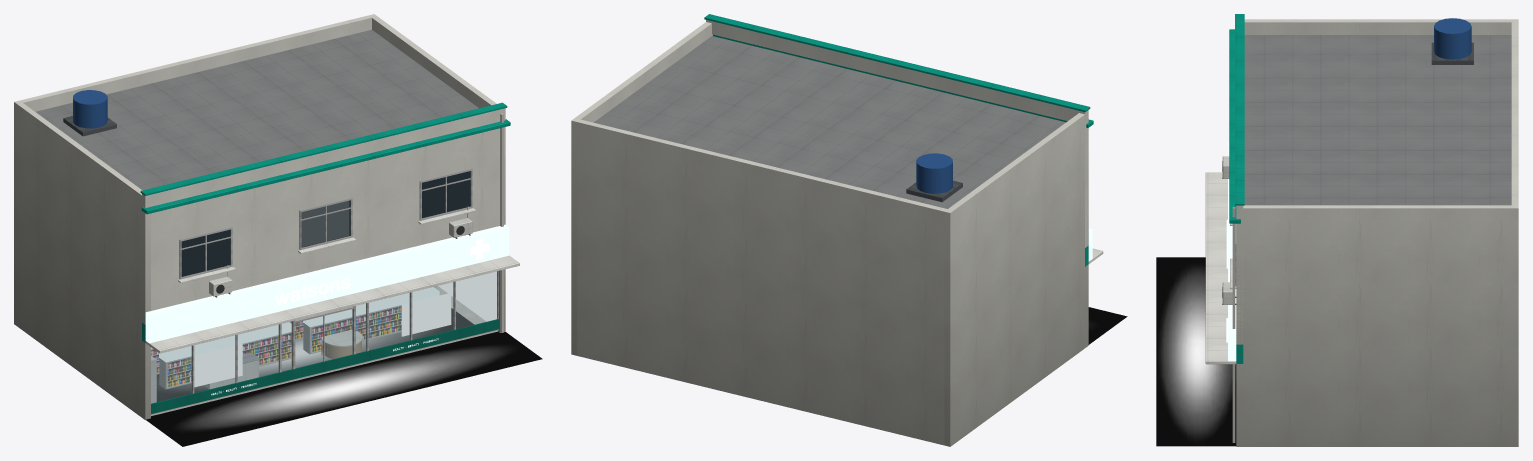
Rendered from LM_SHOP_Watsons.glb.
3 renders of one model, left to right at view 1: azimuth 30°, elevation 25°; view 2: azimuth 150°, elevation 25°; view 3: azimuth 270°, elevation 25°, orthographic. The views are drawn at different scales.
Visible parts, largest first — view 1: LM_SHOP_Watsons | Render wall, LM_SHOP_Watsons | Painted panel, LM_SHOP_Watsons | Night glow sign, LM_SHOP_Watsons | Night wash, LM_SHOP_Watsons | Shopfront glass, LM_SHOP_Watsons | Upper floor glass, LM_SHOP_Watsons | Satin metal, LM_SHOP_Watsons | Night glow shelves, LM_SHOP_Watsons | Night glow LED, LM_SHOP_Watsons | Plastic, LM_SHOP_Watsons | Floor tiles; view 2: LM_SHOP_Watsons | Render wall, LM_SHOP_Watsons | Painted panel, LM_SHOP_Watsons | Plastic, LM_SHOP_Watsons | Night wash; view 3: LM_SHOP_Watsons | Render wall, LM_SHOP_Watsons | Painted panel, LM_SHOP_Watsons | Night wash, LM_SHOP_Watsons | Plastic, LM_SHOP_Watsons | Night glow sign, LM_SHOP_Watsons | Satin metal.
Part boxes in pixels (x1,y1,x2,y2): LM_SHOP_Watsons | Render wall: (14,14,505,420); LM_SHOP_Watsons | Painted panel: (35,29,519,413); LM_SHOP_Watsons | Night glow sign: (145,224,509,395); LM_SHOP_Watsons | Night wash: (146,308,542,446); LM_SHOP_Watsons | Shopfront glass: (151,271,496,403); LM_SHOP_Watsons | Upper floor glass: (181,171,470,276); LM_SHOP_Watsons | Satin metal: (63,116,498,414); LM_SHOP_Watsons | Night glow shelves: (151,306,401,387); LM_SHOP_Watsons | Night glow LED: (302,201,496,321); LM_SHOP_Watsons | Plastic: (73,90,503,332); LM_SHOP_Watsons | Floor tiles: (151,286,497,415); LM_SHOP_Watsons | Render wall: (571,20,1088,446); LM_SHOP_Watsons | Painted panel: (594,14,1103,266); LM_SHOP_Watsons | Plastic: (916,153,952,193); LM_SHOP_Watsons | Night wash: (1088,307,1127,344); LM_SHOP_Watsons | Render wall: (1236,19,1518,446); LM_SHOP_Watsons | Painted panel: (1205,14,1511,364); LM_SHOP_Watsons | Night wash: (1156,257,1236,446); LM_SHOP_Watsons | Plastic: (1222,18,1471,442); LM_SHOP_Watsons | Night glow sign: (1226,142,1236,361); LM_SHOP_Watsons | Satin metal: (1222,42,1473,304).
Bounding box in the file's own units: 19.2 × 12 × 15.4.
12 materials, 6 textured.
